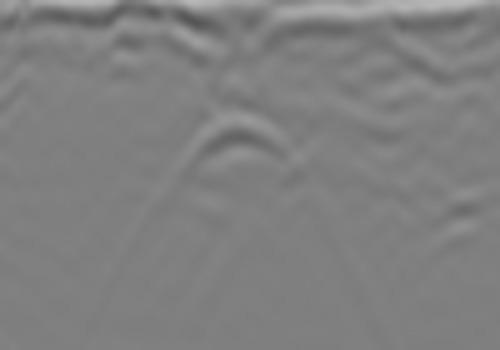hyperbola: (158, 107, 321, 226)
